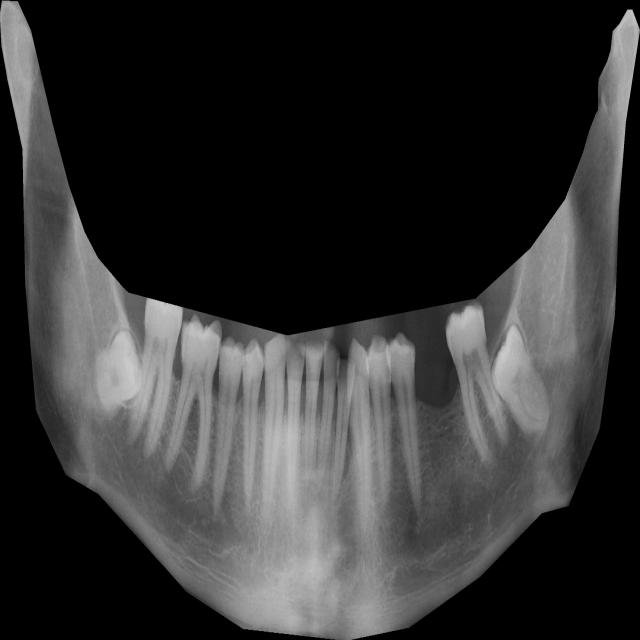mandibula: (0, 0, 640, 640)
